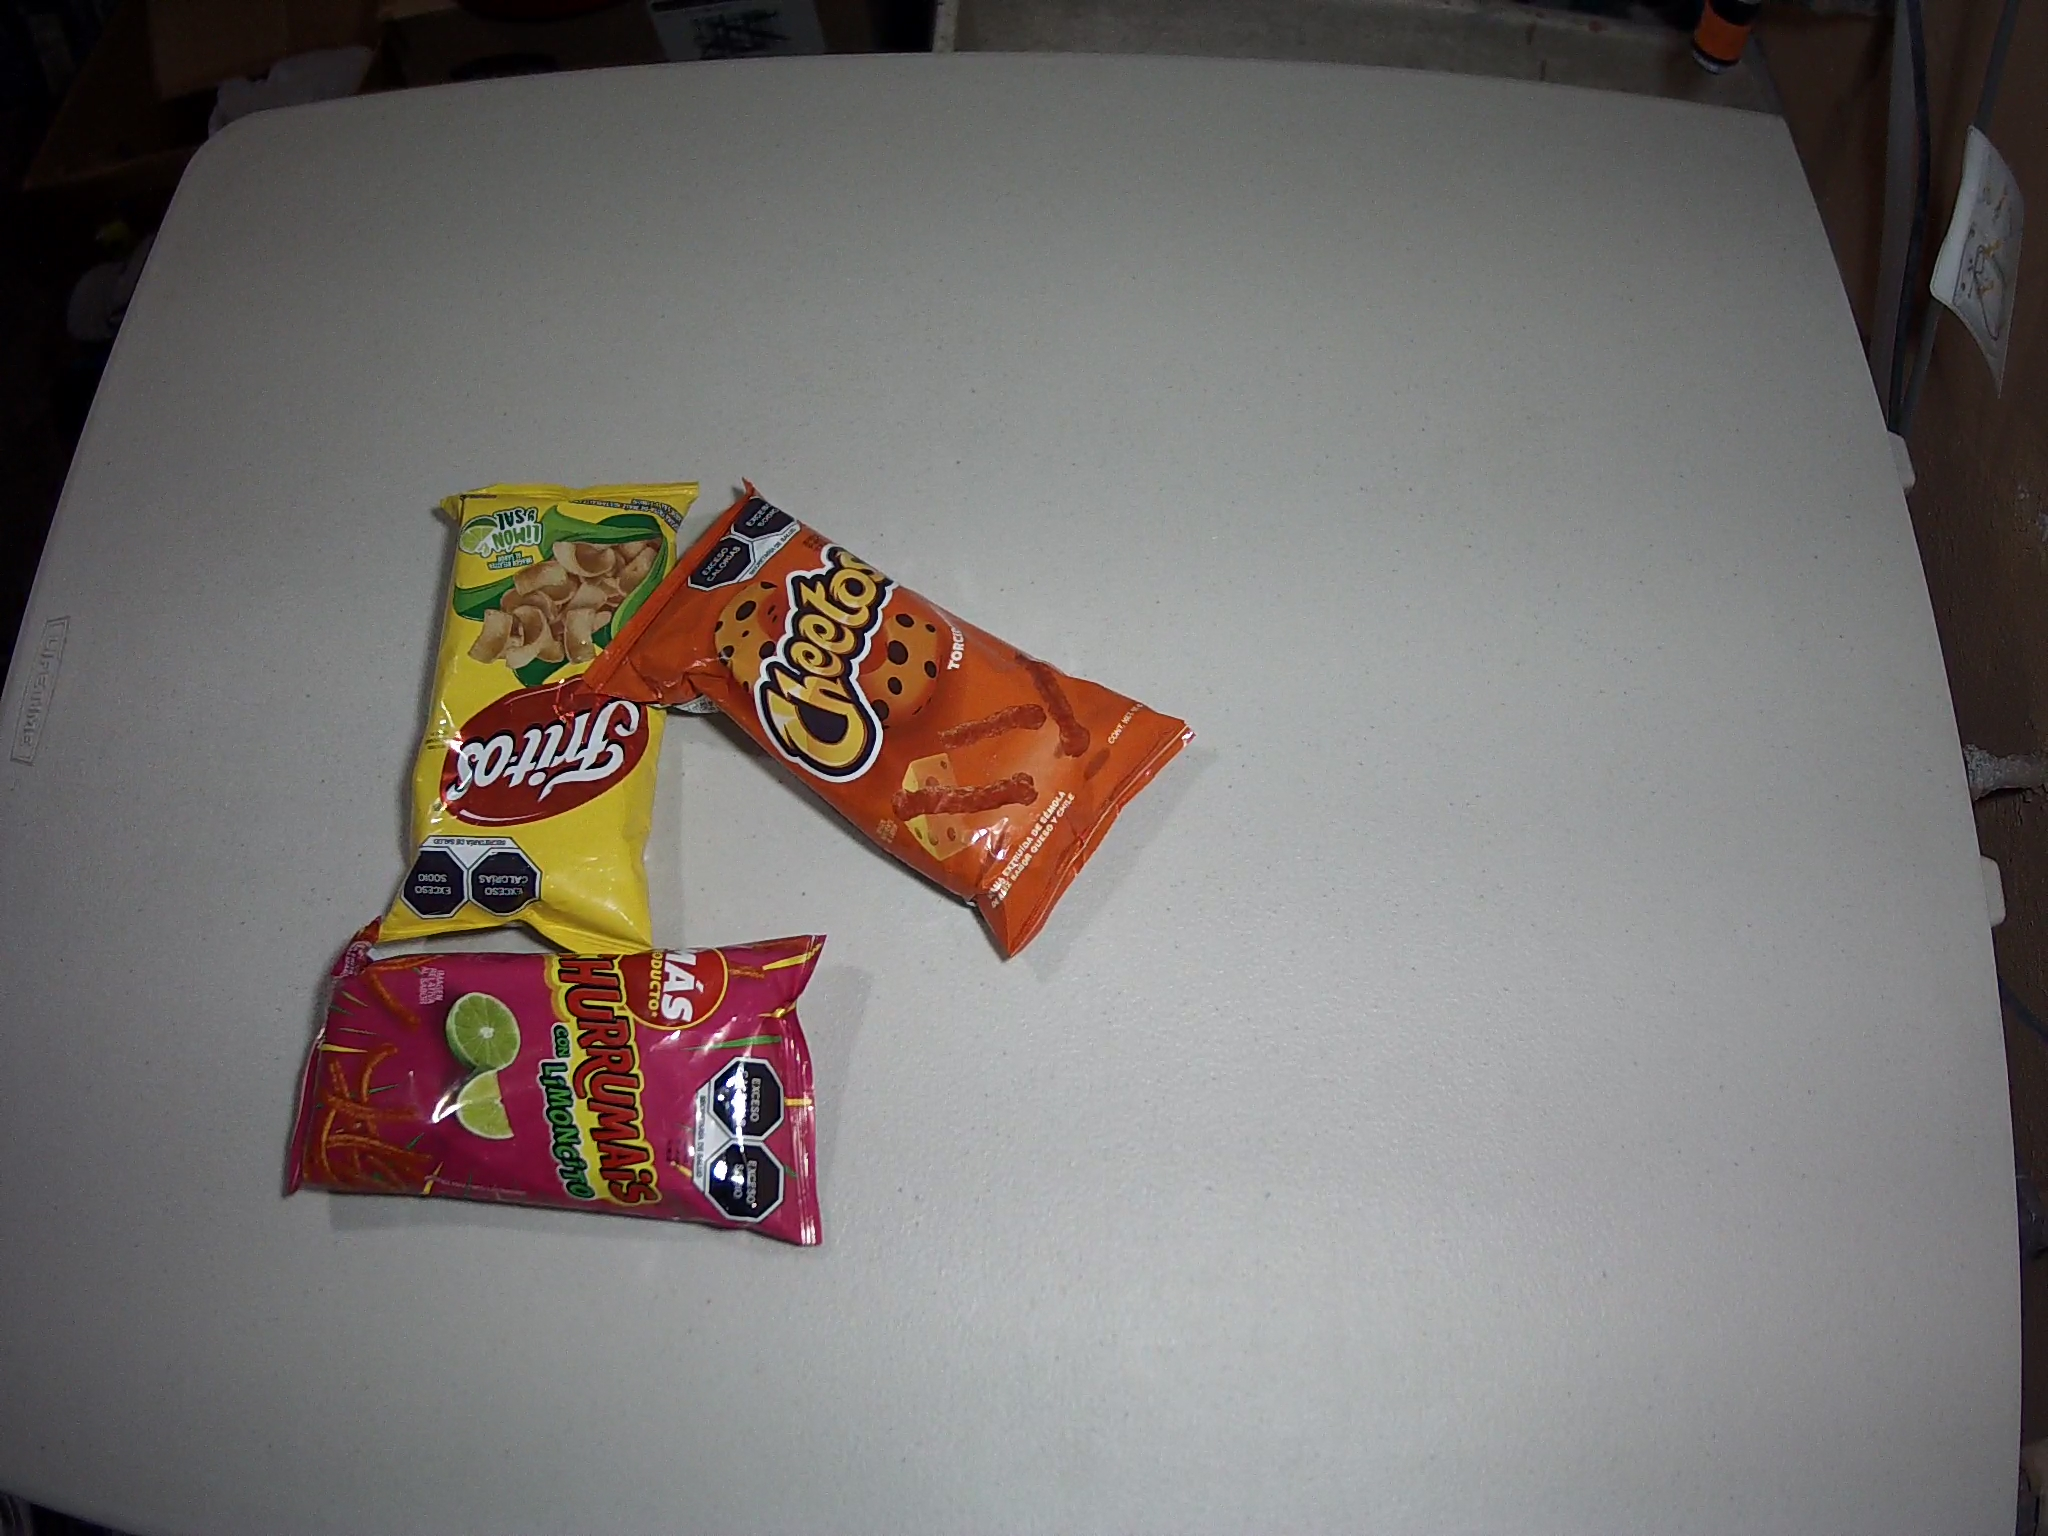CheetosTorciditos_55_F: (576, 473, 1200, 962)
Churrumais_70_F: (281, 912, 830, 1249)
FritosSalLimon_65_F: (377, 481, 698, 970)
